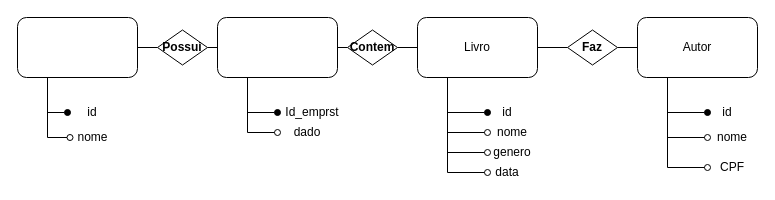
The diagram is 775 pixels wide and 200 high, and some of its shapes have lost their labels. Here are the shapes that lost their labels. From the top down, the centre of each, then its label:
At point (77, 47): "Leitor".
At point (277, 47): "Emprestimo".
